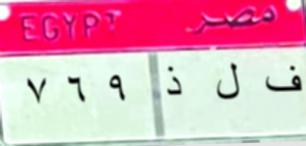6: (64, 70, 89, 111)
7: (24, 72, 50, 109)
9: (103, 70, 131, 110)
faa: (260, 61, 306, 98)
laam: (210, 60, 243, 105)
zaal: (160, 64, 187, 104)
